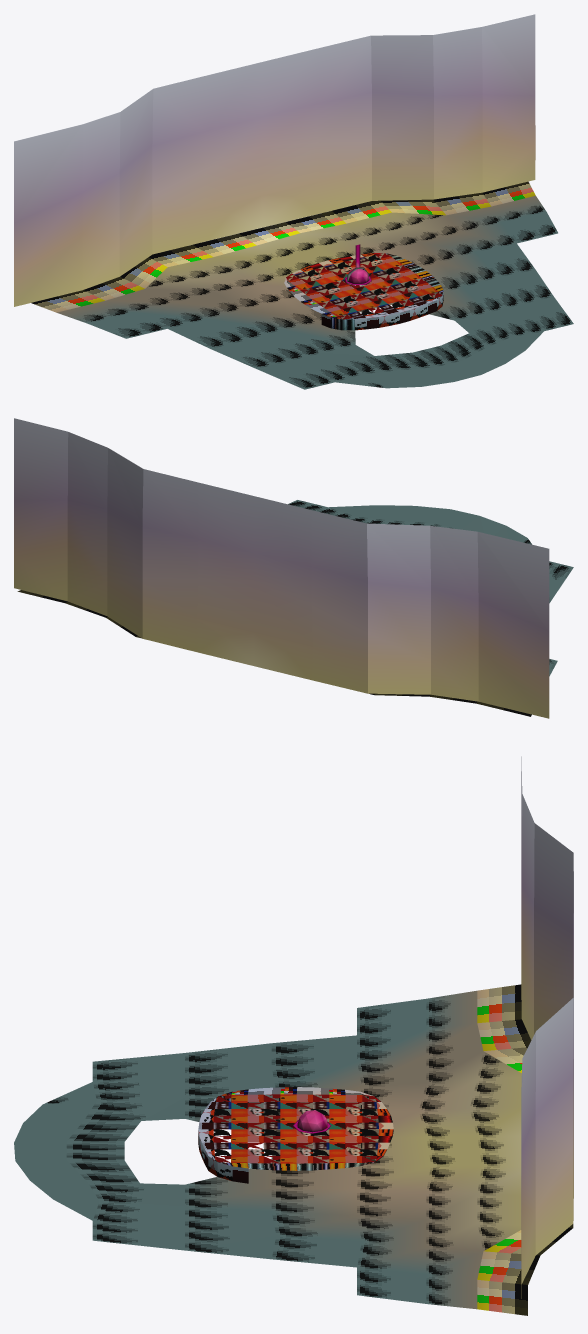
The picture shows the model from 3 angles, top to bottom: view 1: azimuth 30°, elevation 25°; view 2: azimuth 150°, elevation 25°; view 3: azimuth 270°, elevation 25°; orthographic projection. The views are drawn at different scales.
Visible parts, largest first — view 1: extra_3a14, extra_2800, extra_18bc, extra_3848; view 2: extra_3a14, extra_2800; view 3: extra_2800, extra_3a14, extra_18bc, extra_3848.
Boxes of the visible parts, x1,y1,x2,y2 form: extra_3a14: [14, 14, 535, 306]; extra_2800: [31, 181, 573, 389]; extra_18bc: [284, 253, 443, 319]; extra_3848: [321, 290, 443, 330]; extra_3a14: [14, 418, 549, 718]; extra_2800: [17, 500, 573, 716]; extra_2800: [14, 984, 573, 1315]; extra_3a14: [521, 756, 573, 1298]; extra_18bc: [198, 1087, 393, 1170]; extra_3848: [198, 1096, 248, 1183].
Size of the model in its own units: 20.73 by 6.32 by 14.15.
